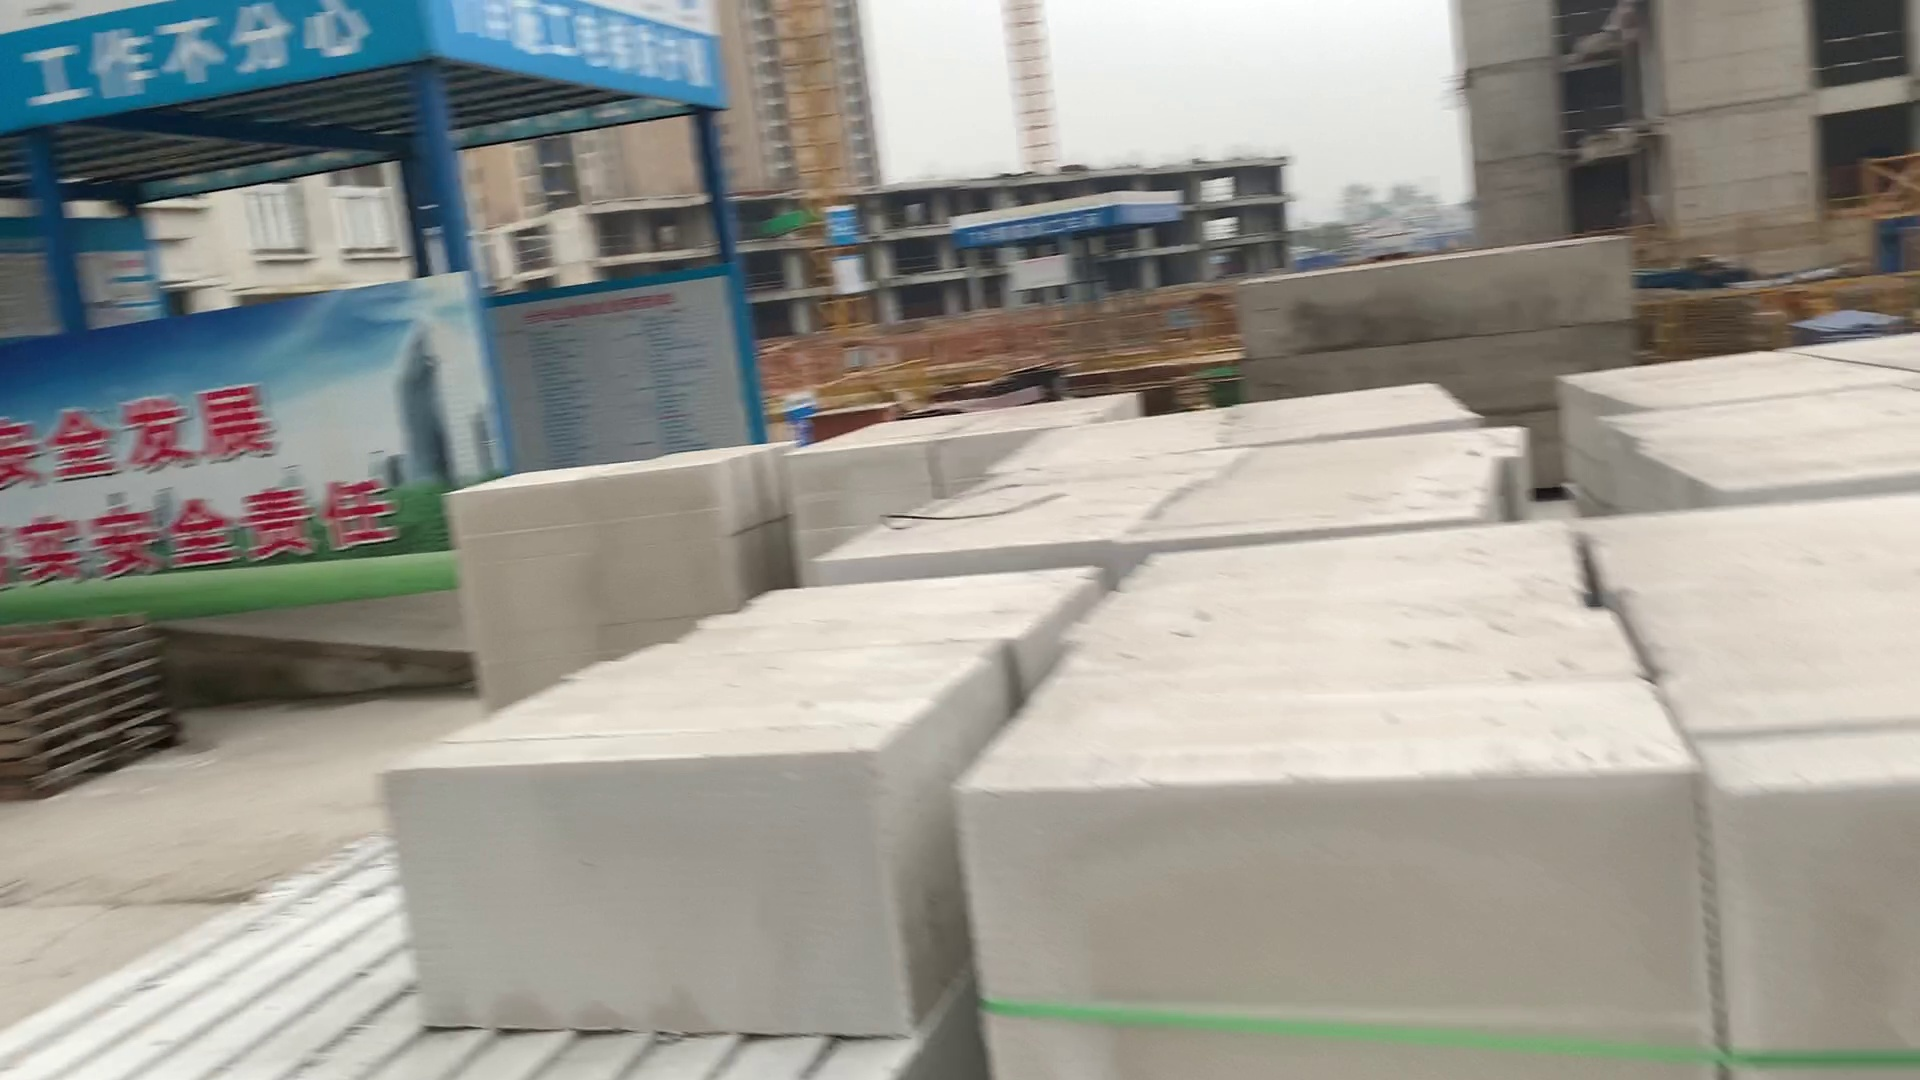brickwork: (1004, 538, 1695, 1080), (364, 580, 1050, 1044), (1588, 496, 1917, 1080), (1230, 235, 1636, 465), (463, 465, 802, 674), (885, 436, 1534, 537), (1009, 371, 1455, 469), (1607, 384, 1920, 512), (1556, 326, 1920, 423), (785, 384, 1135, 431)
